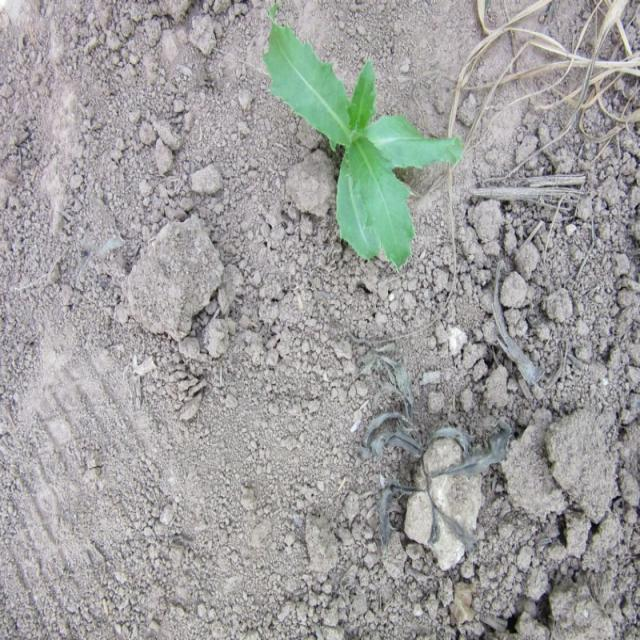cs: (259, 13, 461, 276)
